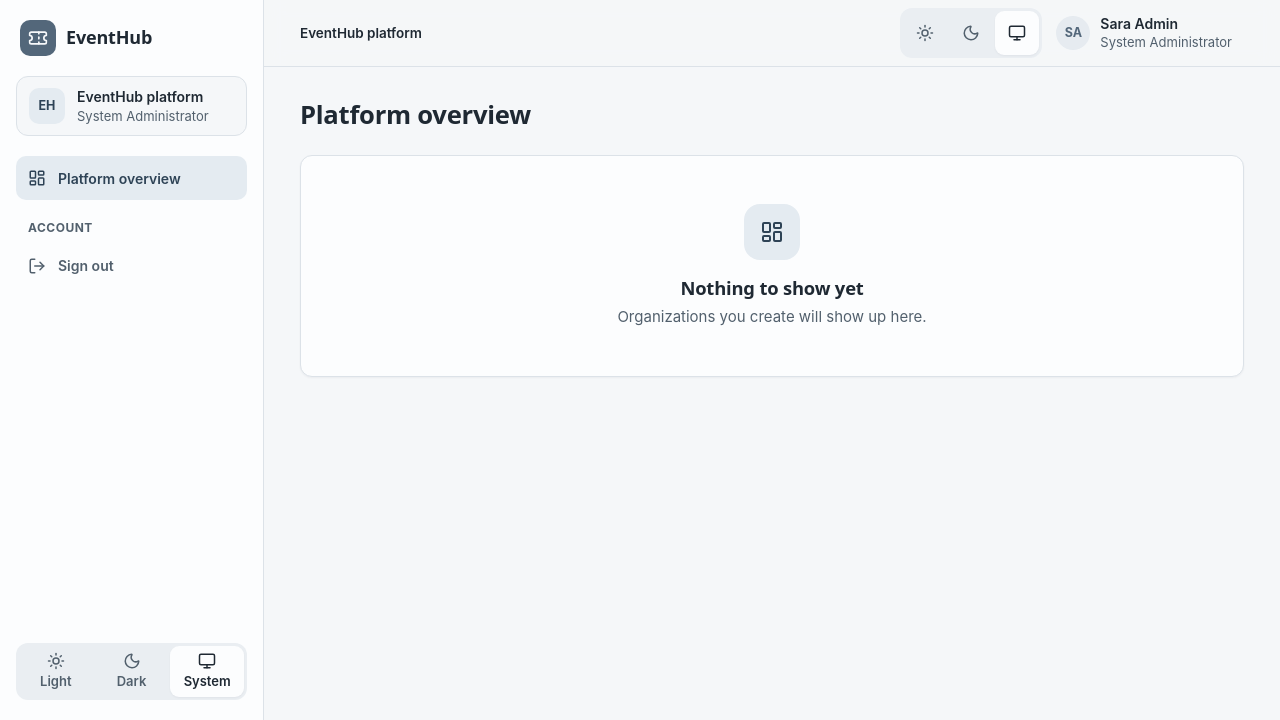
Test: router › sign in and sign out › clears the cached session: after sign-out, going back to /platform asks for sign-in
Click the button "Sign out" at coordinates (132, 266), box [16,244,247,288]
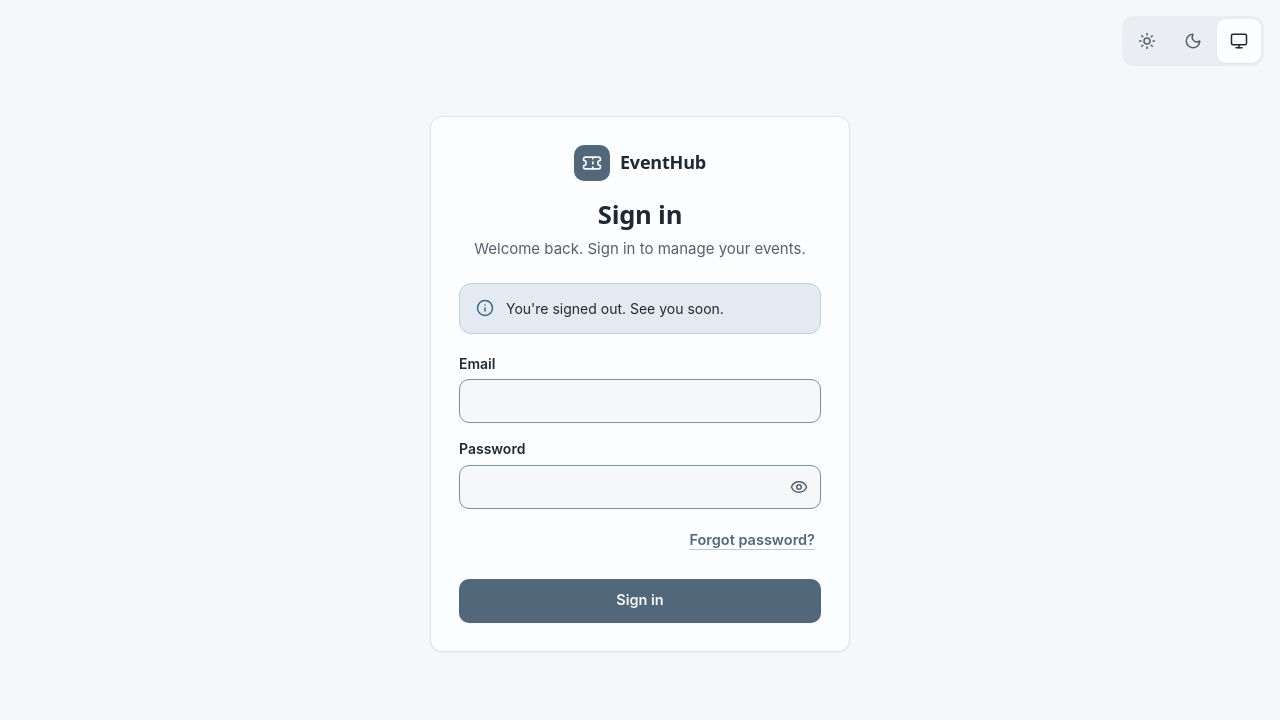
Result: the text "You're signed out. See you soon." is shown at [506,298,724,318]
